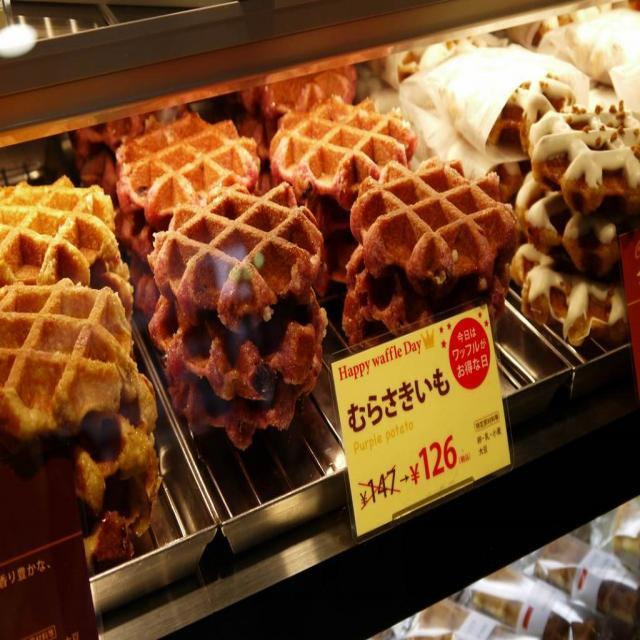Waffle: (355, 32, 639, 350), (69, 102, 329, 449), (239, 65, 519, 351), (0, 180, 162, 572)
